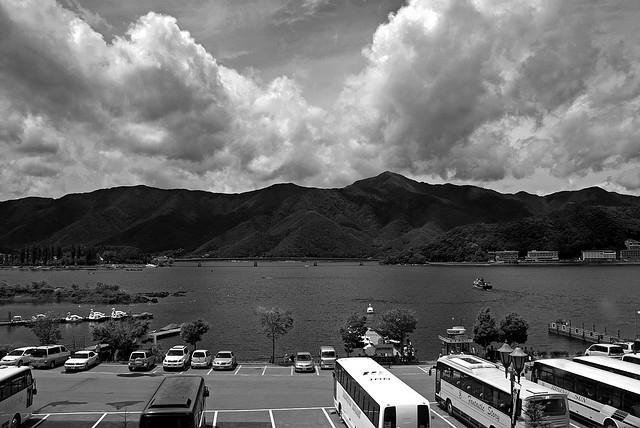bicycle: (403, 354, 418, 362)
bus: (432, 349, 571, 428), (525, 352, 640, 428), (329, 356, 433, 428), (138, 376, 210, 426), (0, 363, 35, 422), (574, 356, 640, 386)
car: (30, 344, 71, 370), (0, 346, 45, 368), (63, 349, 101, 372), (162, 345, 190, 371), (128, 350, 156, 371), (296, 350, 318, 376), (318, 345, 338, 370), (586, 342, 622, 355), (213, 351, 237, 370), (190, 349, 213, 367), (617, 342, 634, 354)
